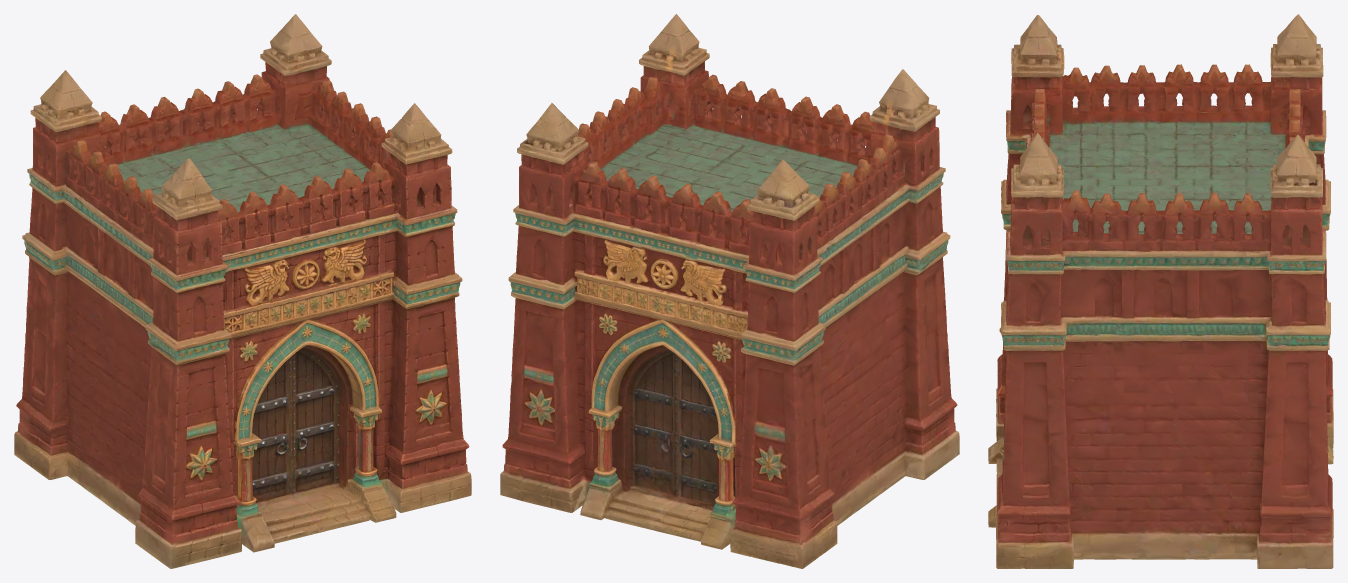
File: RoyalGate.glb
The picture shows the model from 3 angles, left to right: view 1: azimuth 30°, elevation 25°; view 2: azimuth 150°, elevation 25°; view 3: azimuth 270°, elevation 25°; orthographic projection. The views are drawn at different scales.
Bounding box in the file's own units: 1.54 × 1.9 × 1.43.
1 material, 1 textured.
